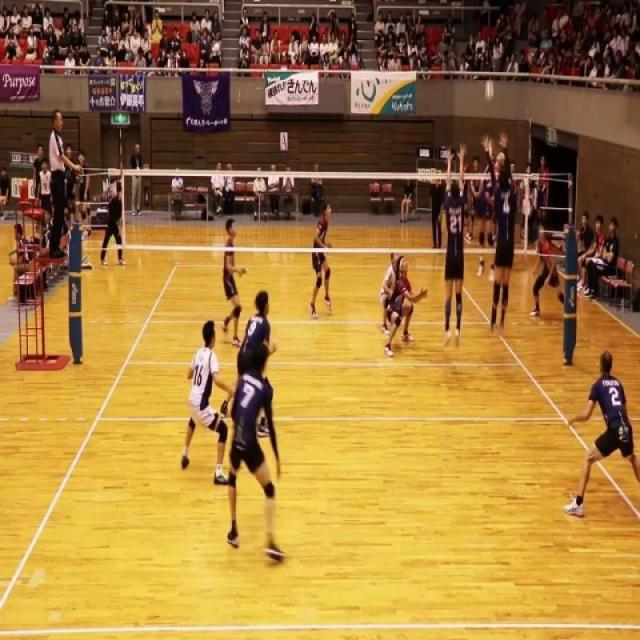volleyball: (484, 76, 495, 106)
